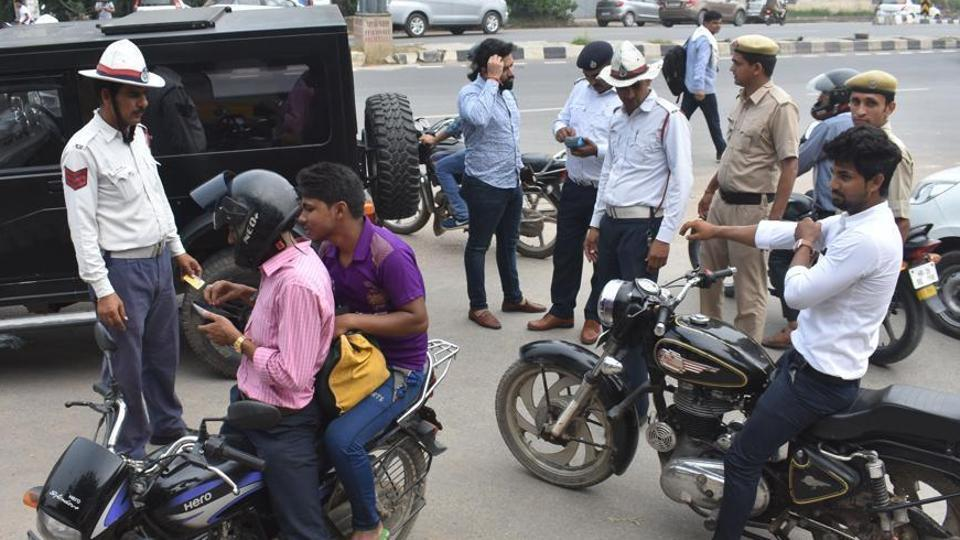helmet: (186, 168, 305, 257)
nohelmet: (816, 120, 910, 209), (290, 156, 372, 237)
